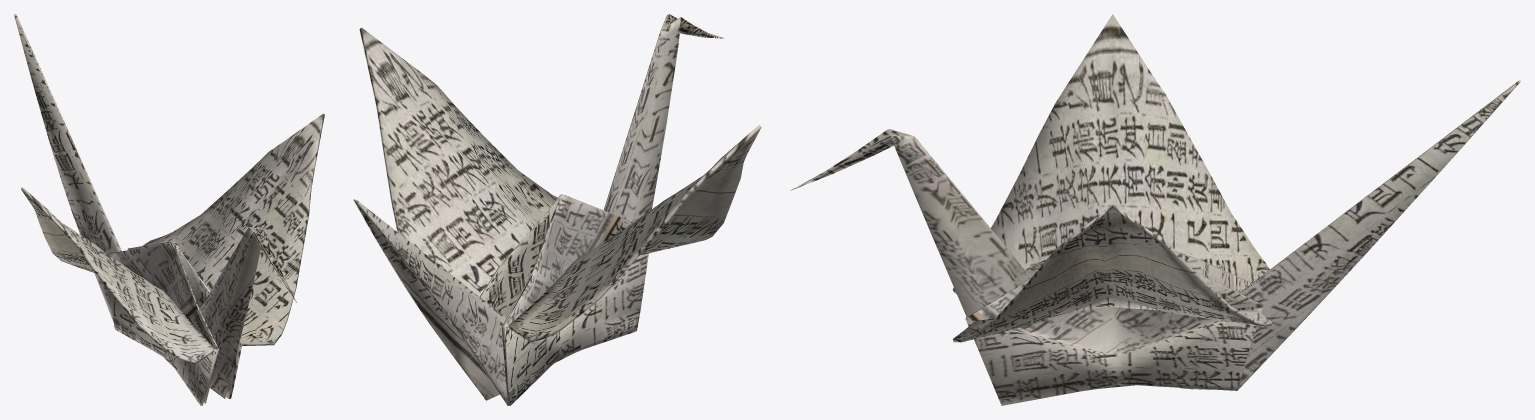
File: crane2.glb
3 views of the same model, side by side, from view 1: azimuth 30°, elevation 25°; view 2: azimuth 150°, elevation 25°; view 3: azimuth 270°, elevation 25° (orthographic). The views are drawn at different scales.
Visible parts, largest first — view 1: Plane.001; view 2: Plane.001; view 3: Plane.001.
Boxes of the visible parts, <box> form: Plane.001: <box>14,14,324,405</box>; Plane.001: <box>353,14,761,405</box>; Plane.001: <box>790,14,1520,405</box>.
Bounding box in the file's own units: 2.97 × 2.26 × 4.75.
1 material, 1 textured.
